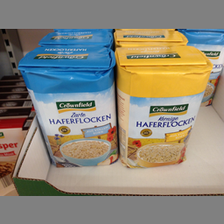cereal: (18, 47, 118, 168), (114, 45, 212, 167)
